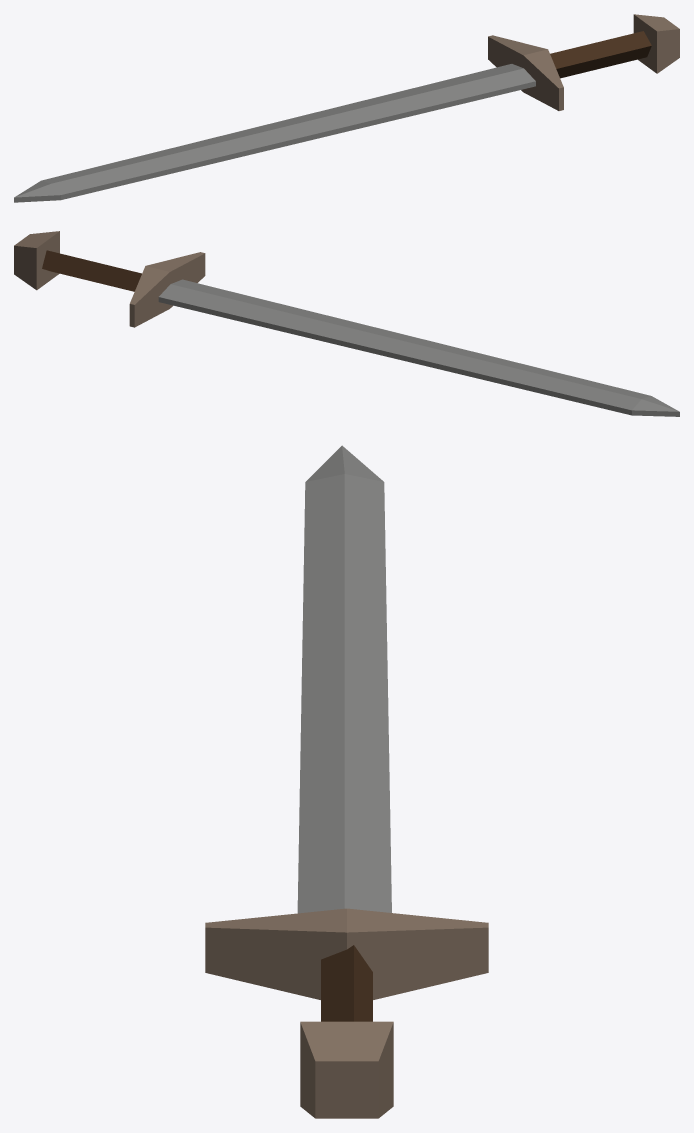
The model's file is sword_deco.fbx.
The picture shows the model from 3 angles, top to bottom: view 1: azimuth 30°, elevation 25°; view 2: azimuth 150°, elevation 25°; view 3: azimuth 270°, elevation 25°; orthographic projection. The views are drawn at different scales.
Parts seen in each view (by area): view 1: sword_deco; view 2: sword_deco; view 3: sword_deco.
Boxes of the visible parts, x1,y1,x2,y2 form: sword_deco: (14, 14, 679, 202); sword_deco: (14, 231, 679, 416); sword_deco: (205, 445, 488, 1118).
Bounding box in the file's own units: 2.67 × 0.1642 × 0.4974.
